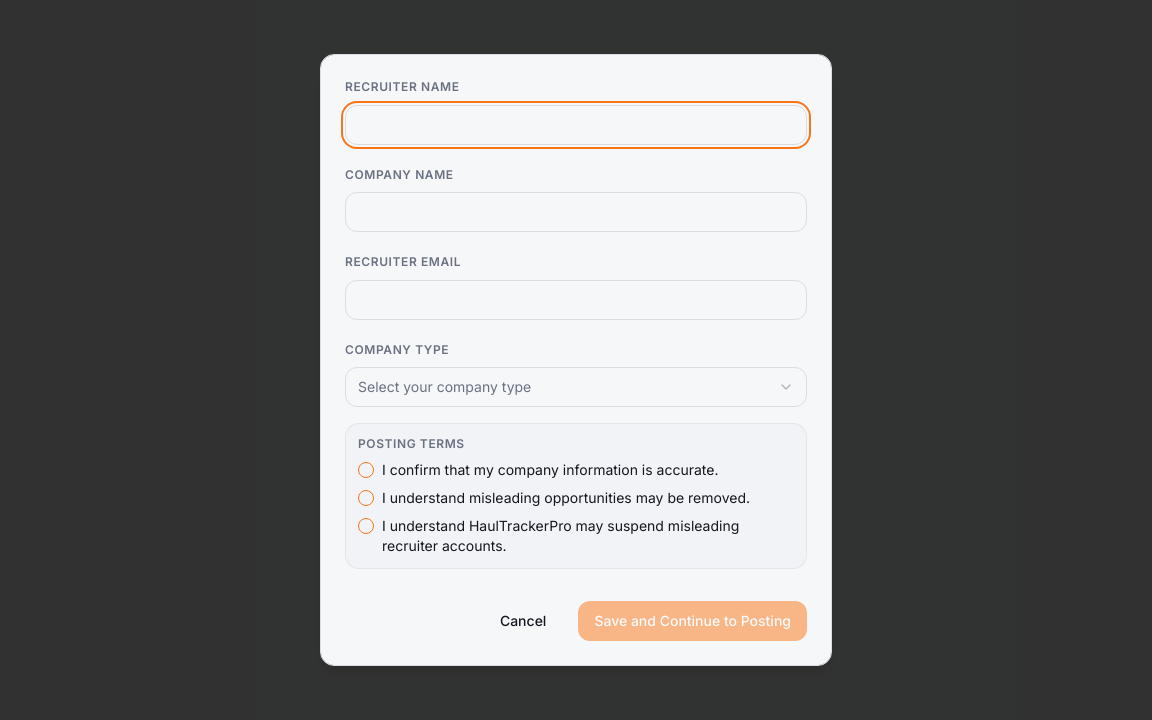
it: Phase 1P-A4 — Legacy recruiter inline readiness dialog › renders exactly three unchecked agreements when terms are missing and Save is disabled until all checked
The image size is (1152, 720).
(page scrolled)
Expected: the text "I confirm that my company information is accurate." is shown, [382,460,718,480]
Expected: the text "I understand misleading opportunities may be removed." is shown, [382,488,750,508]
Click the checkbox with test id "rr-agree-1" at (366, 470), box [358,462,374,478]
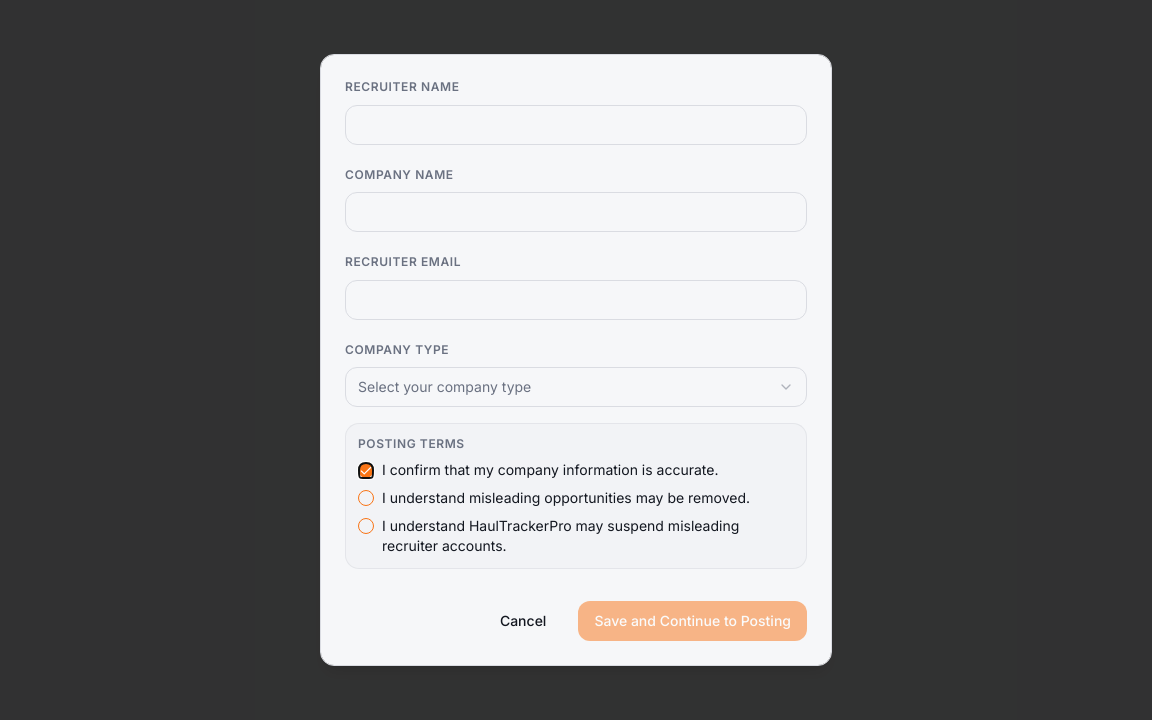
Click the checkbox with test id "rr-agree-2" at (366, 498), box [358,490,374,506]
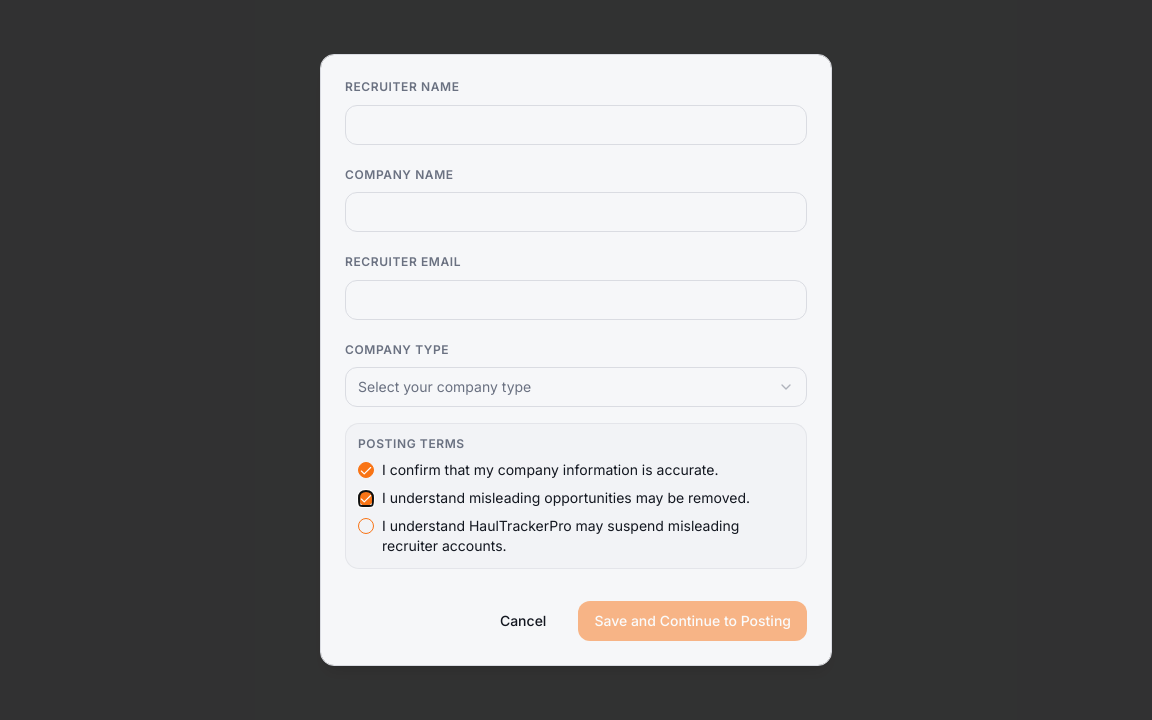
Expected: the button with test id "readiness-dialog-primary" is disabled, [578,601,807,641]
Click the checkbox with test id "rr-agree-3" at (366, 526), box [358,518,374,534]
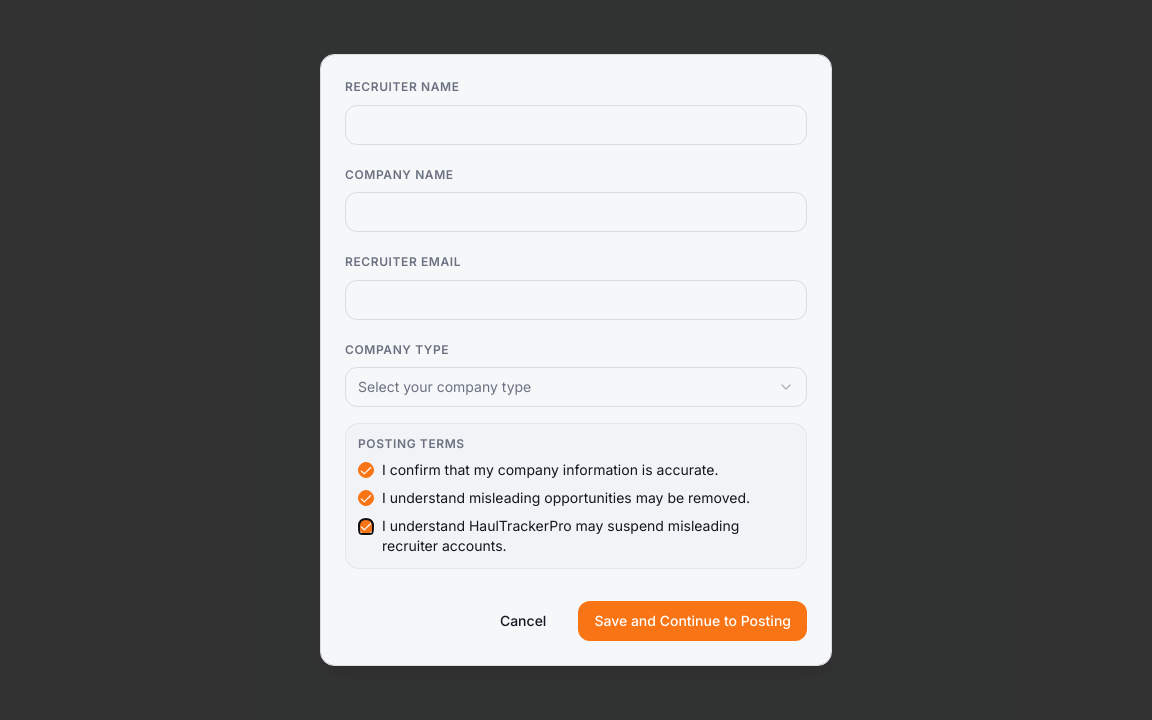
Result: the button with test id "readiness-dialog-primary" is enabled at [578,601,807,641]
